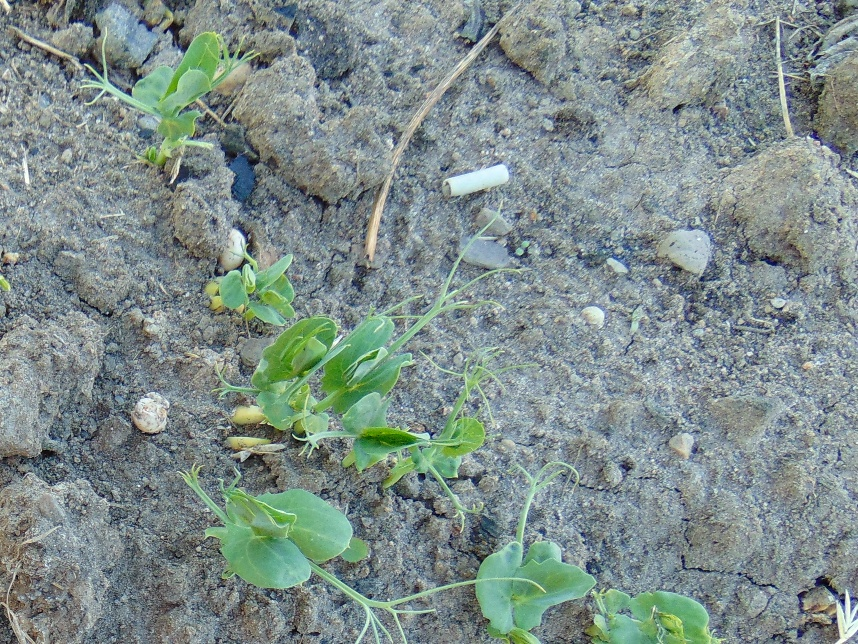crop: (220, 283, 513, 502), (371, 457, 600, 644), (182, 453, 410, 632), (84, 30, 255, 176), (209, 237, 300, 329), (592, 581, 719, 644)
